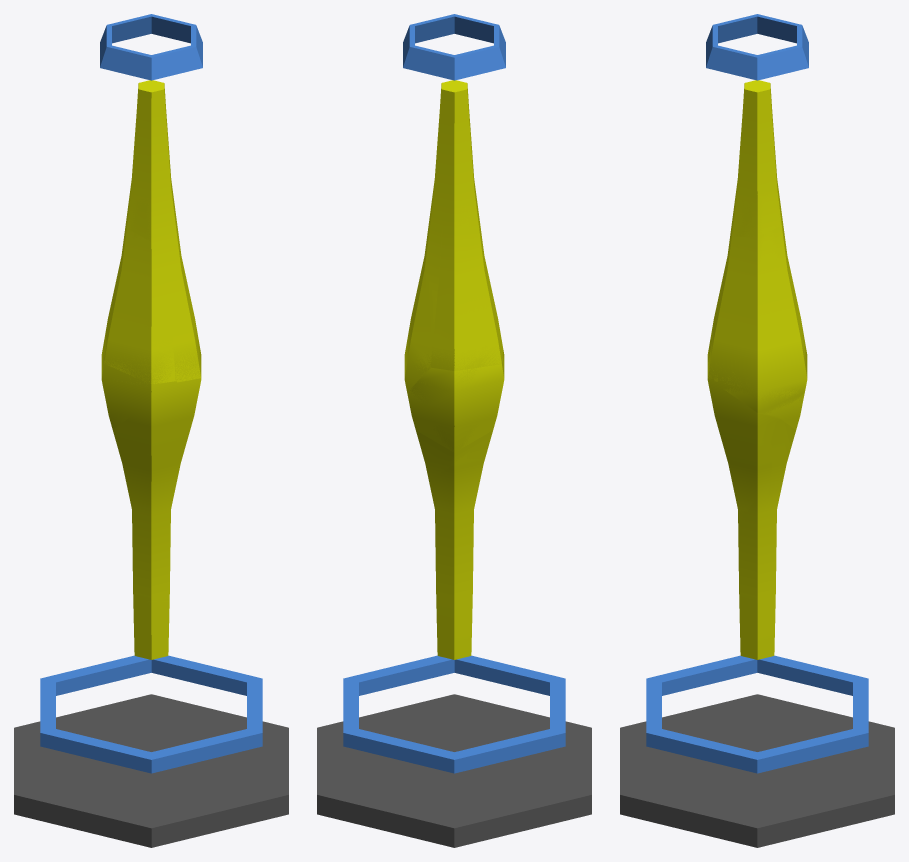
The model's file is lamp1.fbx.
3 renders of one model, left to right at view 1: azimuth 30°, elevation 25°; view 2: azimuth 150°, elevation 25°; view 3: azimuth 270°, elevation 25°, orthographic.
Visible parts, largest first — view 1: PR_floorlamp_01, PR_floorlamp_01_cell.012, PR_floorlamp_01_cell.010, PR_floorlamp_01_cell.007, PR_floorlamp_01_cell.011, PR_floorlamp_01_cell, PR_floorlamp_01_cell.008, PR_floorlamp_01_cell.006, PR_floorlamp_01_cell.005, PR_floorlamp_01_cell.009, PR_floorlamp_01_cell.003; view 2: PR_floorlamp_01, PR_floorlamp_01_cell.012, PR_floorlamp_01_cell.010, PR_floorlamp_01_cell.006, PR_floorlamp_01_cell.009, PR_floorlamp_01_cell.004, PR_floorlamp_01_cell.003, PR_floorlamp_01_cell.011, PR_floorlamp_01_cell.001, PR_floorlamp_01_cell.007, PR_floorlamp_01_cell; view 3: PR_floorlamp_01, PR_floorlamp_01_cell.012, PR_floorlamp_01_cell.003, PR_floorlamp_01_cell.011, PR_floorlamp_01_cell.010, PR_floorlamp_01_cell.007, PR_floorlamp_01_cell.009, PR_floorlamp_01_cell, PR_floorlamp_01_cell.005, PR_floorlamp_01_cell.008, PR_floorlamp_01_cell.001.
Boxes of the visible parts, x1,y1,x2,y2 form: PR_floorlamp_01: [14, 14, 254, 787]; PR_floorlamp_01_cell.012: [14, 753, 288, 847]; PR_floorlamp_01_cell.010: [14, 694, 288, 753]; PR_floorlamp_01_cell.007: [120, 447, 182, 601]; PR_floorlamp_01_cell.011: [40, 690, 262, 773]; PR_floorlamp_01_cell: [56, 655, 262, 695]; PR_floorlamp_01_cell.008: [133, 598, 169, 659]; PR_floorlamp_01_cell.006: [104, 213, 175, 383]; PR_floorlamp_01_cell.005: [112, 16, 202, 66]; PR_floorlamp_01_cell.009: [126, 80, 177, 241]; PR_floorlamp_01_cell.003: [173, 328, 201, 382]; PR_floorlamp_01: [317, 14, 591, 847]; PR_floorlamp_01_cell.012: [370, 694, 591, 804]; PR_floorlamp_01_cell.010: [317, 715, 506, 821]; PR_floorlamp_01_cell.006: [432, 227, 503, 370]; PR_floorlamp_01_cell.009: [429, 80, 479, 230]; PR_floorlamp_01_cell.004: [410, 352, 504, 452]; PR_floorlamp_01_cell.003: [405, 218, 441, 375]; PR_floorlamp_01_cell.011: [367, 655, 565, 747]; PR_floorlamp_01_cell.001: [454, 14, 505, 80]; PR_floorlamp_01_cell.007: [416, 430, 492, 480]; PR_floorlamp_01_cell: [343, 673, 470, 749]; PR_floorlamp_01: [620, 14, 894, 847]; PR_floorlamp_01_cell.012: [620, 694, 838, 833]; PR_floorlamp_01_cell.003: [708, 222, 807, 414]; PR_floorlamp_01_cell.011: [646, 655, 837, 766]; PR_floorlamp_01_cell.010: [699, 736, 894, 847]; PR_floorlamp_01_cell.007: [738, 413, 795, 612]; PR_floorlamp_01_cell.009: [734, 80, 781, 236]; PR_floorlamp_01_cell: [730, 677, 866, 773]; PR_floorlamp_01_cell.005: [706, 45, 794, 70]; PR_floorlamp_01_cell.008: [739, 602, 775, 659]; PR_floorlamp_01_cell.001: [712, 16, 757, 46].
Size of the model in its own units: 200 by 518 by 173.
